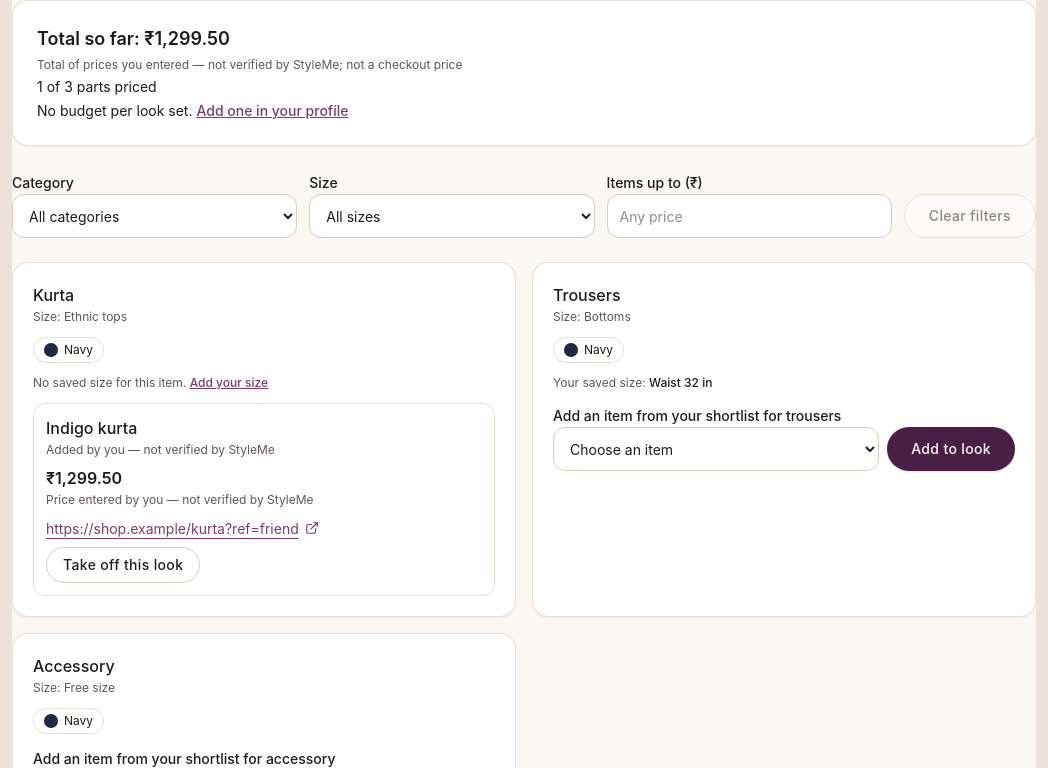
Test: Shop My Look for a saved look › says when no part matches, and when no item matches the price
Type "100" into the field labelled "Items up to (₹)" at (749, 216), box [606,194,892,238]
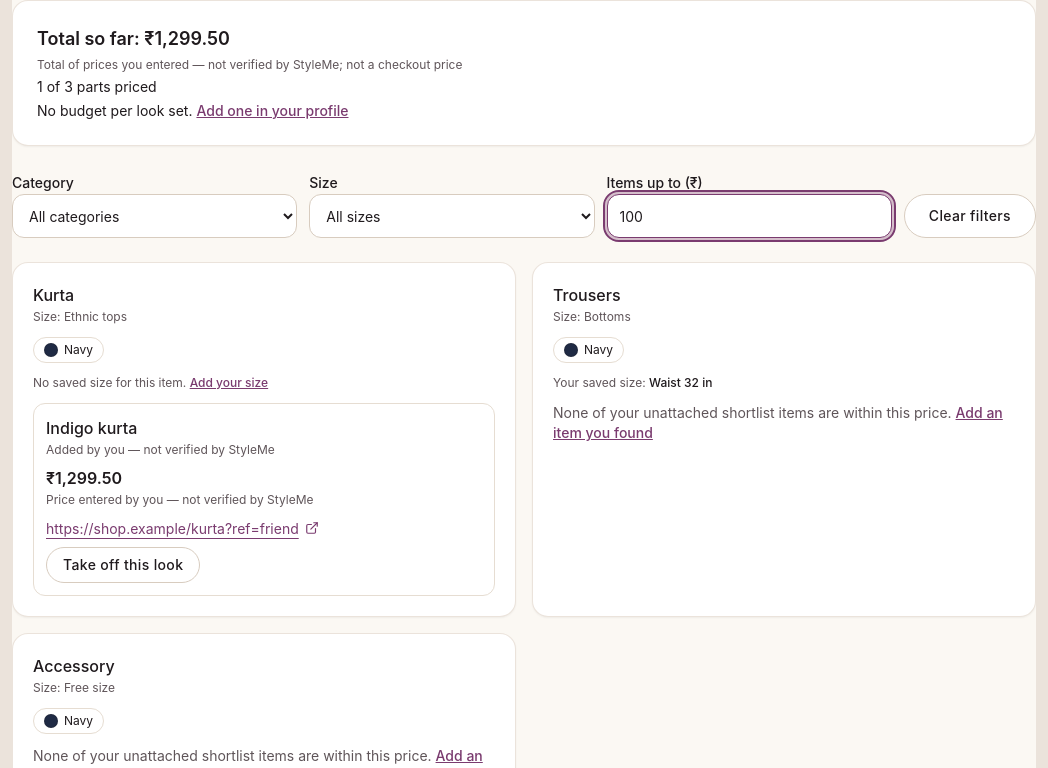
Expected: the text "None of your unattached shortlist items are within this price" below "Your saved size:" is shown, [553,404,952,421]
